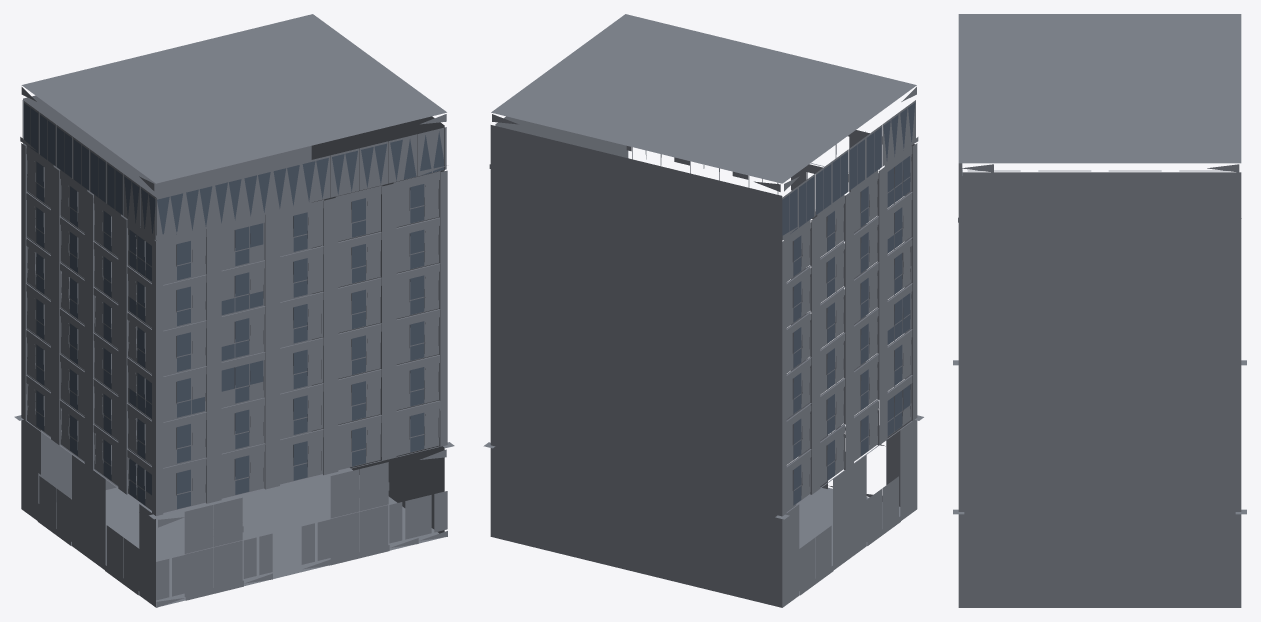
The model's file is env_building_large_2.glb.
3 renders of one model, left to right at view 1: azimuth 30°, elevation 25°; view 2: azimuth 150°, elevation 25°; view 3: azimuth 270°, elevation 25°, orthographic. The views are drawn at different scales.
Parts seen in each view (by area): view 1: part_0, part_1; view 2: part_0, part_1; view 3: part_0.
Part boxes in pixels (box(x1,y1,x2,y2)): part_0: box(14, 14, 454, 607); part_1: box(24, 103, 445, 509); part_0: box(483, 14, 923, 607); part_1: box(782, 102, 915, 505); part_0: box(953, 14, 1246, 607).
Bounding box in the file's own units: 20.64 × 27.8 × 16.64.
